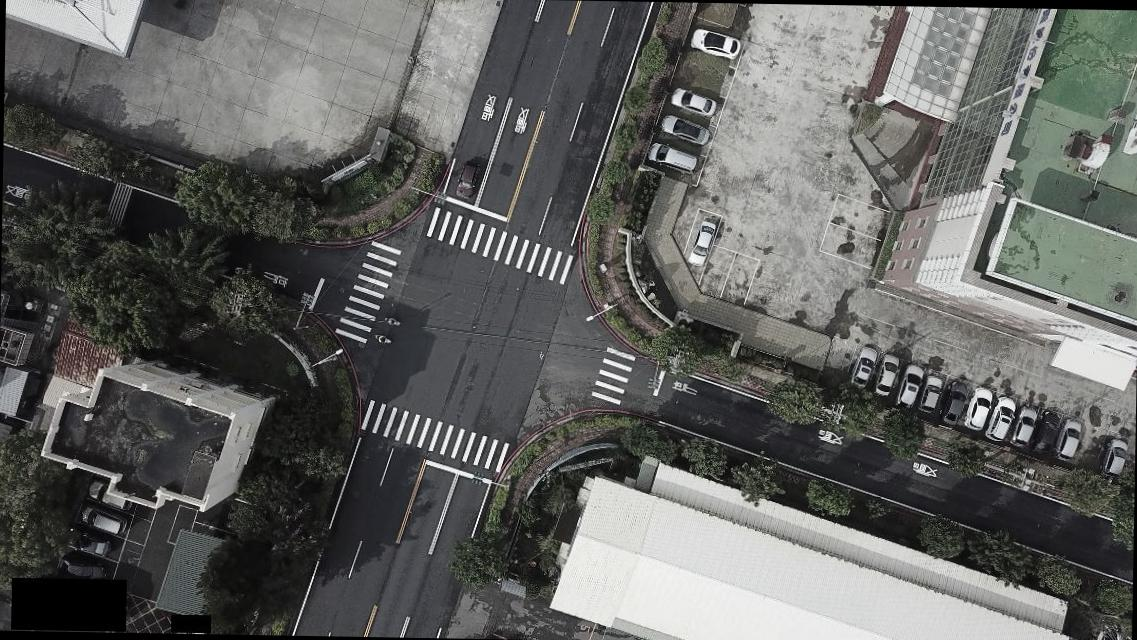vehicle: (689, 29, 742, 61), (648, 142, 700, 174), (661, 114, 710, 146), (80, 506, 128, 536), (985, 397, 1016, 441), (670, 89, 717, 118), (687, 220, 716, 266), (896, 363, 924, 410), (964, 386, 993, 431), (90, 482, 134, 511), (940, 379, 967, 426), (1032, 410, 1062, 452), (66, 529, 110, 557), (851, 346, 878, 391), (872, 354, 899, 398), (1056, 420, 1084, 460), (1010, 406, 1036, 448), (64, 556, 106, 582), (918, 374, 943, 414), (1101, 438, 1128, 474)
